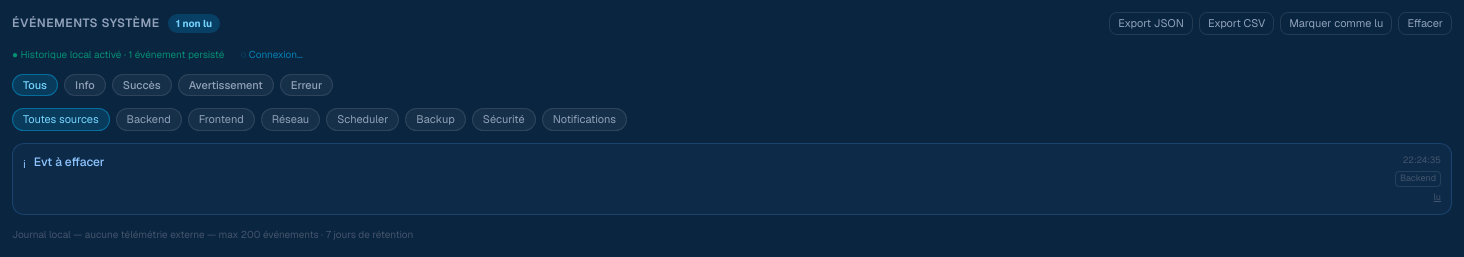
Scenario: SystemEventsPanel — vider le journal › efface après confirmation
Expected: the text "Evt à effacer" is shown, [34,154,104,170]
Click the button "Effacer": point(1425, 23) [1398,12,1452,34]
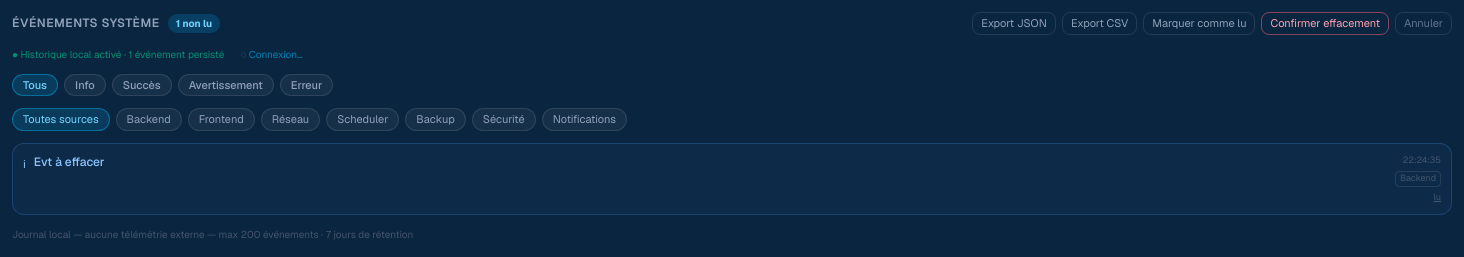
Click the button "Confirmer effacement": point(1325, 23) [1262,12,1389,34]
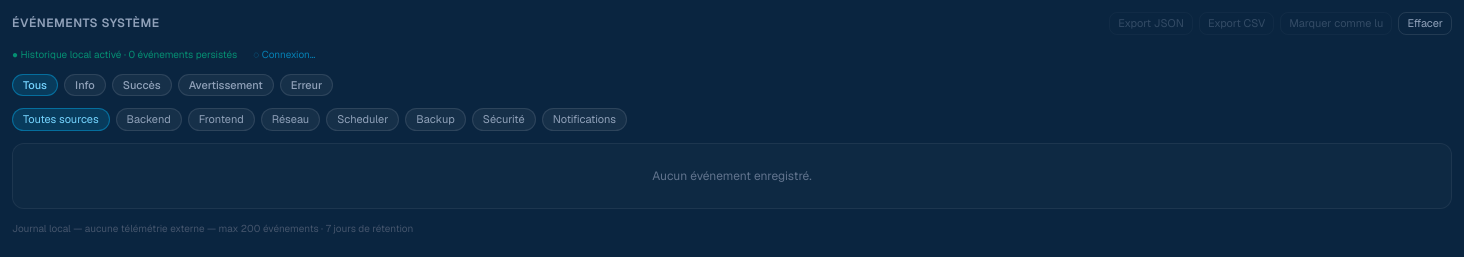
Expected: the text "Aucun événement enregistré." is shown, [12,142,1452,208]
